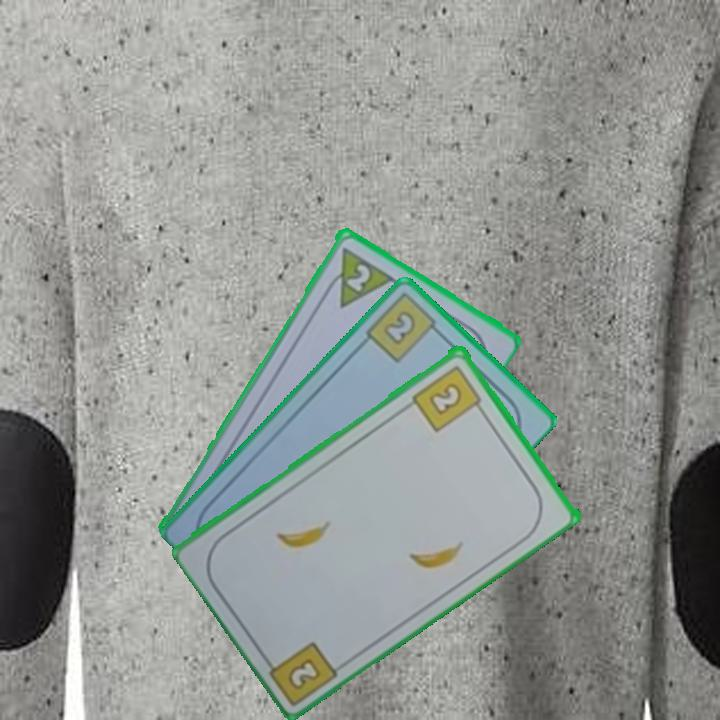2b: (362, 289, 446, 366), (409, 361, 488, 434), (284, 653, 324, 693)
2p: (319, 242, 396, 311)
